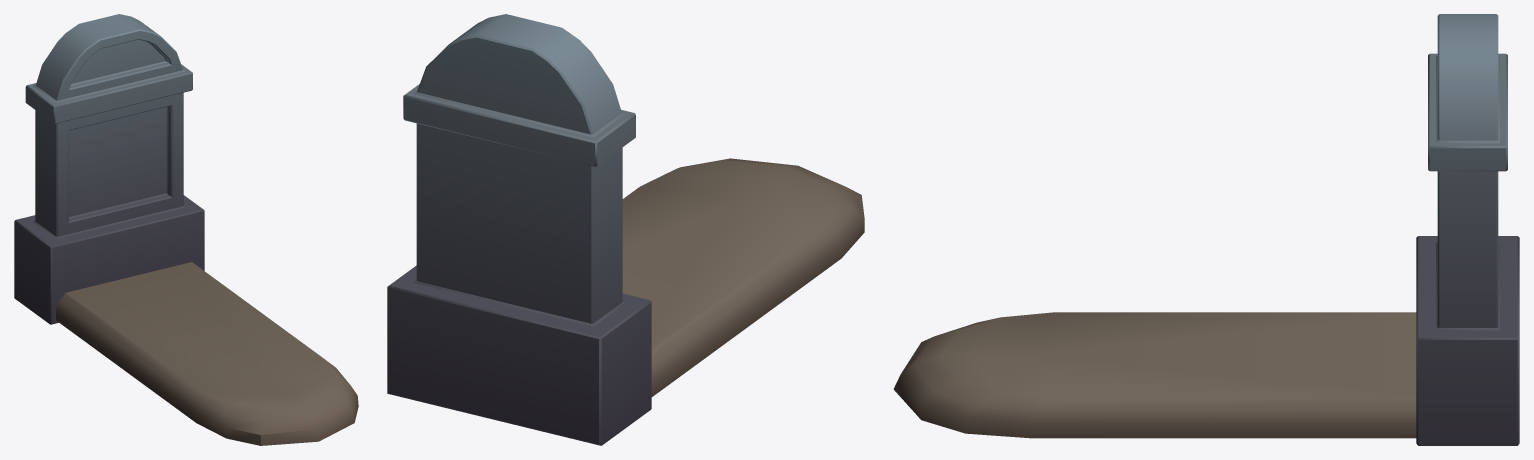
Rendered from GStone3.fbx.
The picture shows the model from 3 angles, left to right: view 1: azimuth 30°, elevation 25°; view 2: azimuth 150°, elevation 25°; view 3: azimuth 270°, elevation 25°; orthographic projection. The views are drawn at different scales.
Visible parts, largest first — view 1: GStone3; view 2: GStone3; view 3: GStone3.
Boxes of the visible parts, box(x1,y1,x2,y2) form: GStone3: box(14, 14, 358, 445); GStone3: box(387, 14, 864, 445); GStone3: box(893, 14, 1519, 445).
Size of the model in its own units: 200 by 330 by 512.
Materials: 1 (1 with a texture image).
